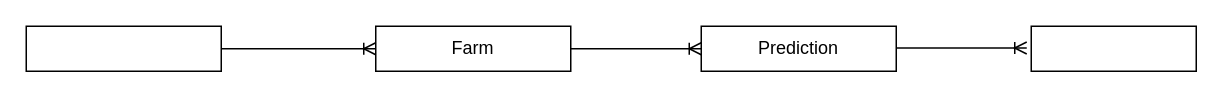
Some shapes in this 1223 by 98 pixel diagram are drawn without their labels. Here are the shapes that lost their labels. From the top down, the centre of each, then its label:
At (123,48): "User".
At (1113,48): "Disease".
